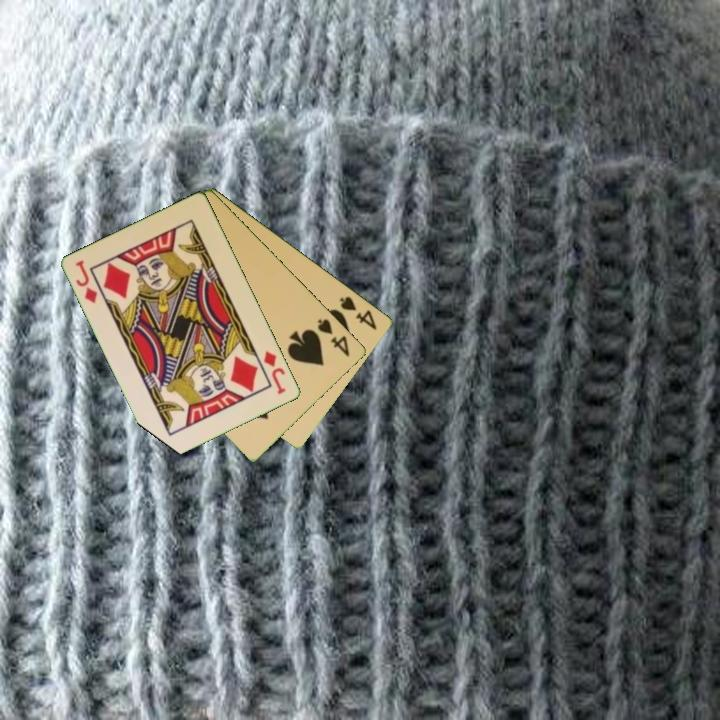4s: (336, 293, 380, 333), (314, 315, 353, 360)
Jd: (260, 348, 289, 397), (72, 257, 101, 306)
